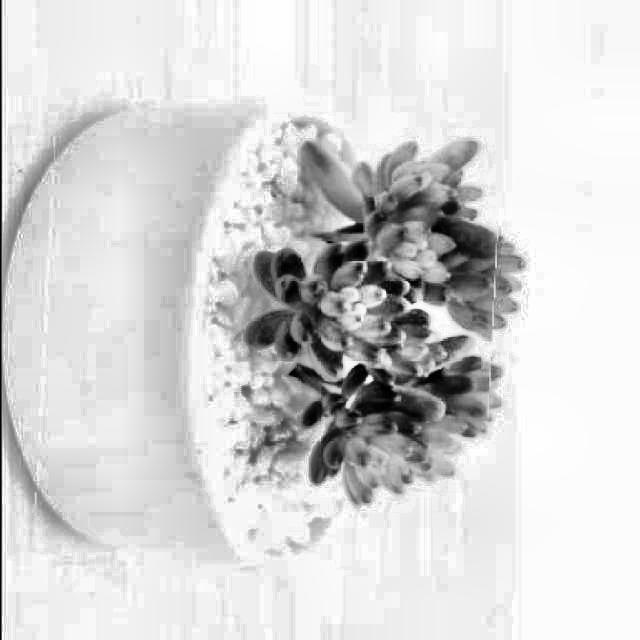plants: (38, 101, 494, 570)
